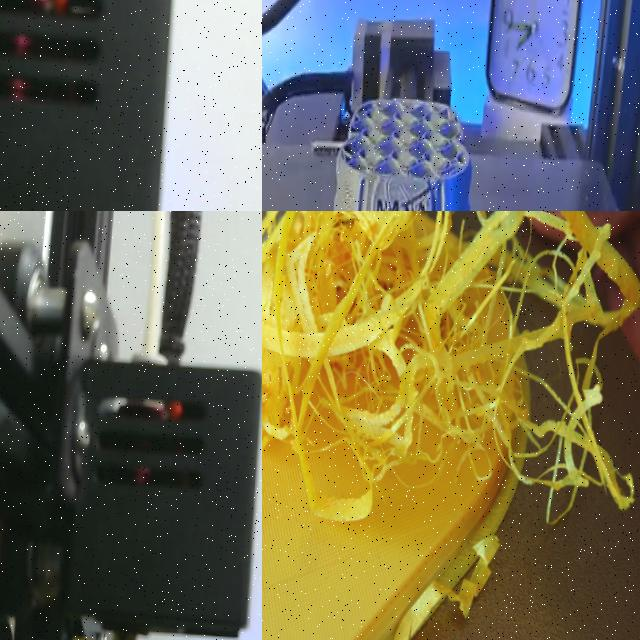spaghetti: (262, 211, 640, 525)
